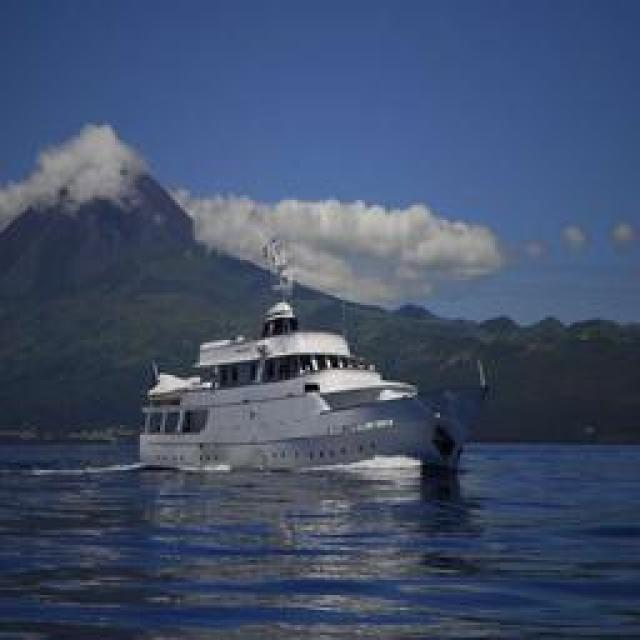Ship: (138, 281, 473, 479)
